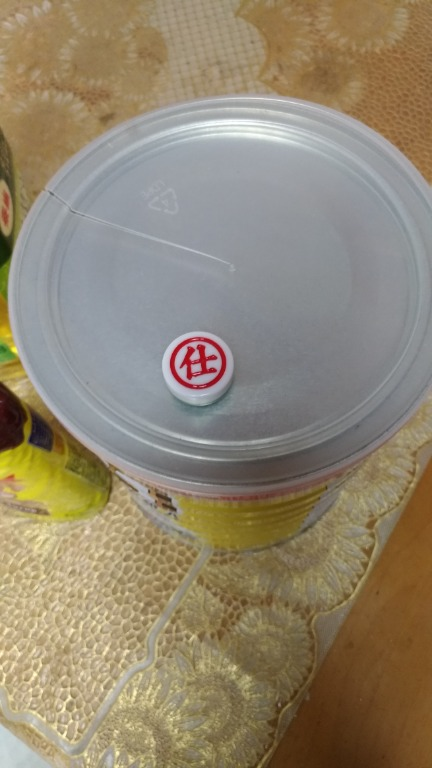r-advisor: (139, 321, 245, 409)
